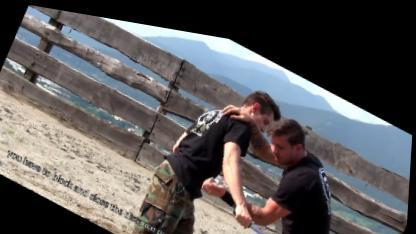knife: (226, 195, 284, 233)
